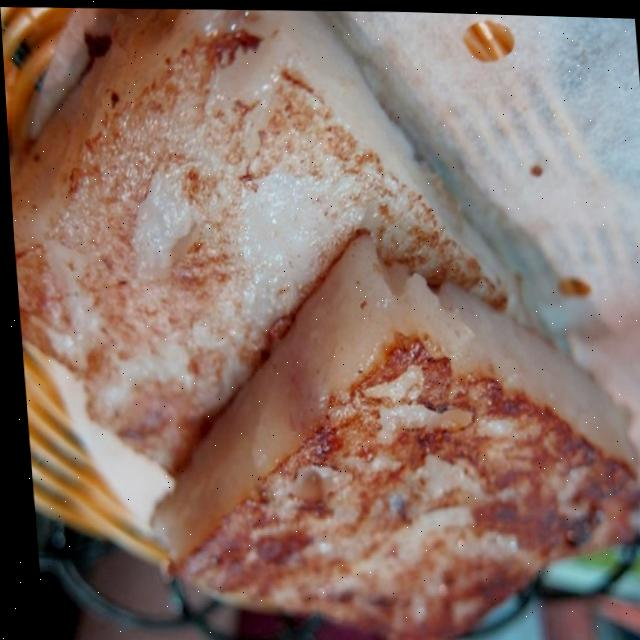蛋糕甜品: (4, 14, 640, 640)
